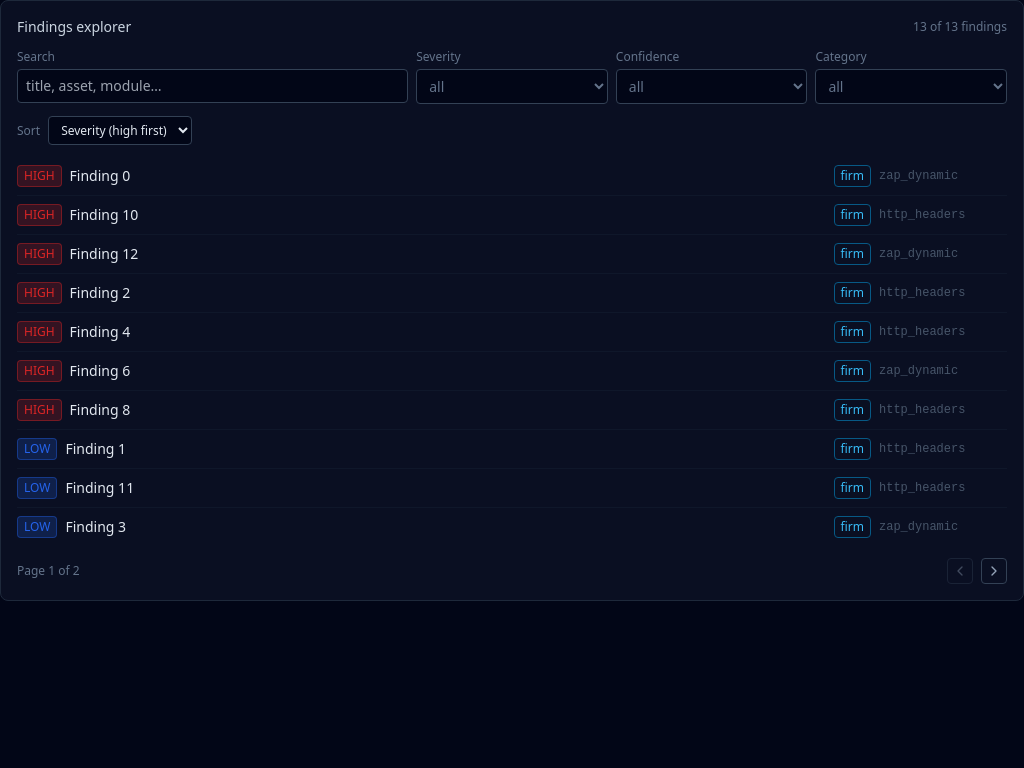
Scenario: FindingsExplorer › searches across title, asset, module
Type "finding 12" into the search field named "Search findings" at (213, 86), box [17,69,408,103]
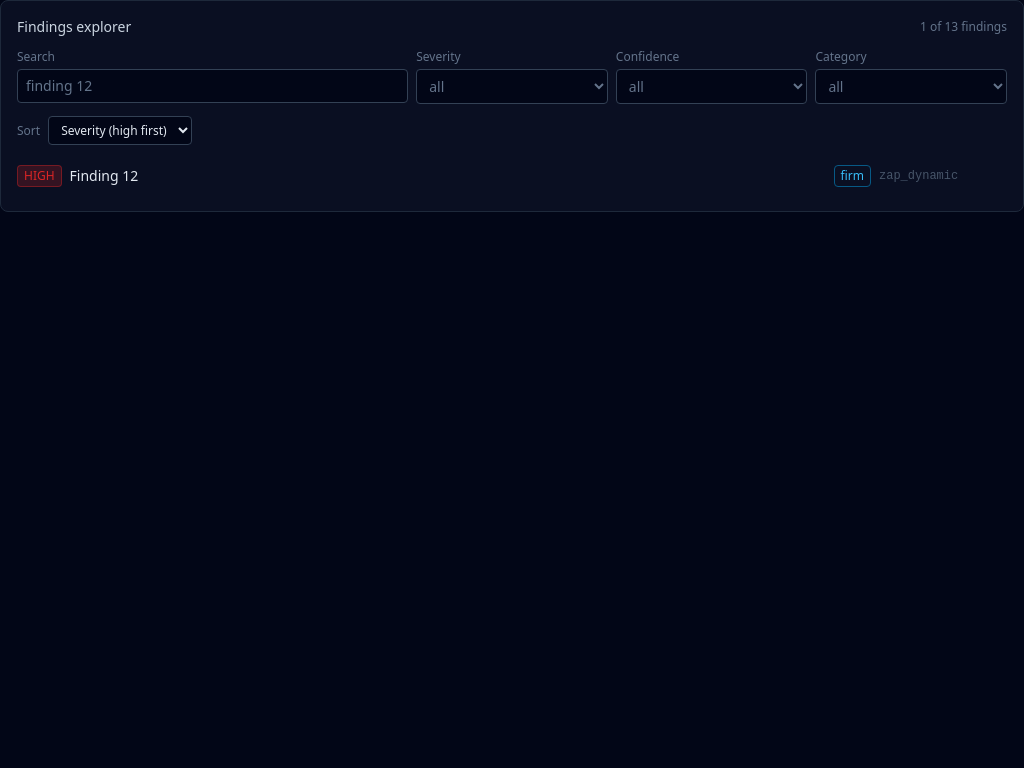
Expected: the text with test id "explorer-count" shows "1 of 13", [920,19,1007,35]
